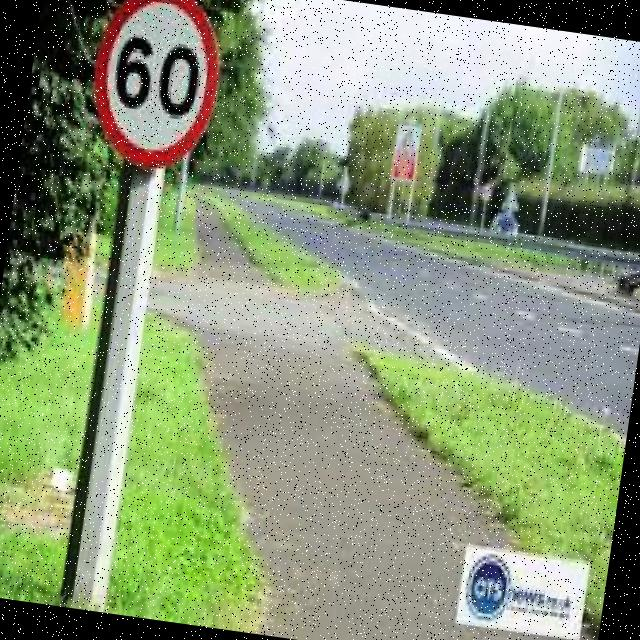Ograniczenie predkosci do 60: (82, 0, 233, 179)
